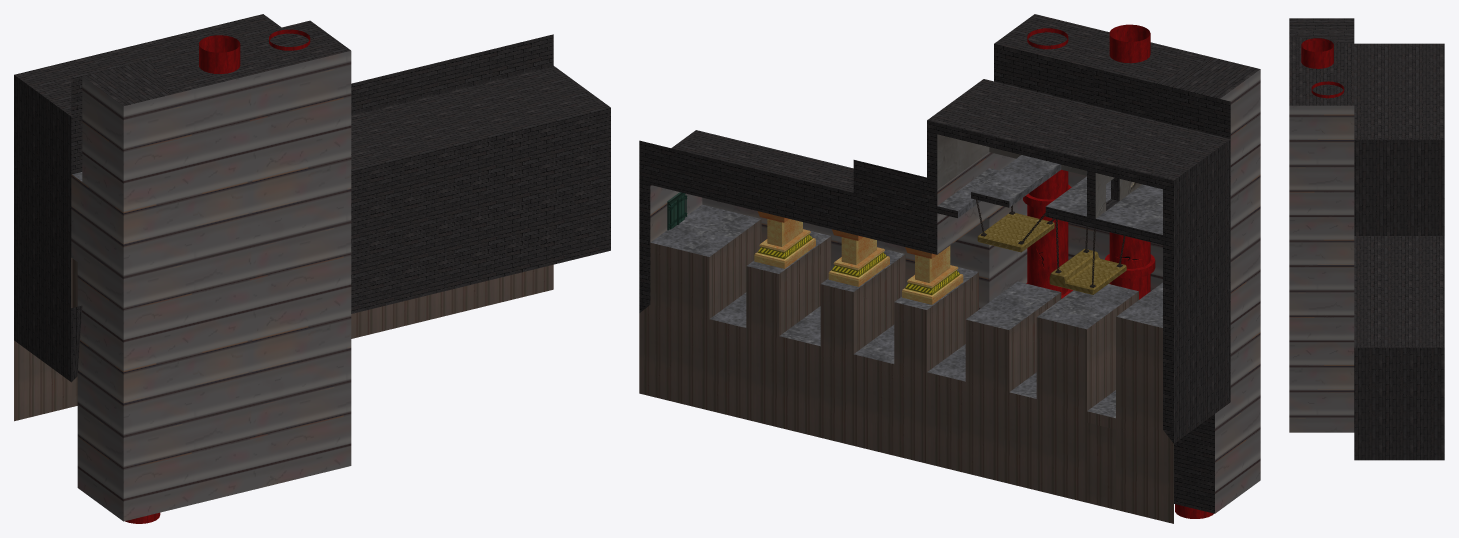
File: factory_v2.glb
3 renders of one model, left to right at view 1: azimuth 30°, elevation 25°; view 2: azimuth 150°, elevation 25°; view 3: azimuth 270°, elevation 25°, orthographic. The views are drawn at different scales.
Parts seen in each view (by area): view 1: FactoryOutline, Pipe.001; view 2: FactoryOutline, Pipe, Pipe.001, Piston.002, ChainedPlatform.001, Piston, Piston.001, ChainedPlatform; view 3: FactoryOutline, Pipe.001, Pipe.
Boxes of the visible parts, <box> form: FactoryOutline: <box>14,14,610,521</box>; Pipe.001: <box>199,35,240,73</box>; FactoryOutline: <box>639,14,1260,523</box>; Pipe: <box>1023,28,1072,298</box>; Pipe.001: <box>1105,24,1155,299</box>; Piston.002: <box>902,245,963,304</box>; ChainedPlatform.001: <box>1049,248,1126,294</box>; Piston: <box>754,219,815,268</box>; Piston.001: <box>828,237,889,286</box>; ChainedPlatform: <box>977,213,1054,252</box>; FactoryOutline: <box>1289,18,1444,460</box>; Pipe.001: <box>1301,38,1333,68</box>; Pipe: <box>1311,81,1344,98</box>.
Size of the model in its own units: 16.76 by 13.61 by 5.3.
16 materials, 13 textured.
